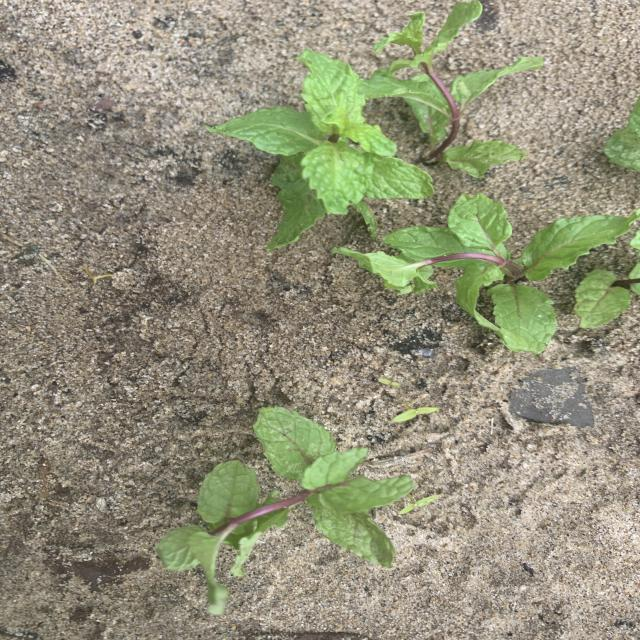crop: (155, 407, 414, 615), (335, 194, 640, 354), (208, 50, 433, 249), (364, 0, 543, 177), (574, 270, 640, 328), (604, 97, 640, 171), (629, 262, 640, 280)
weed: (398, 495, 439, 515), (391, 407, 439, 423), (377, 378, 400, 387)
